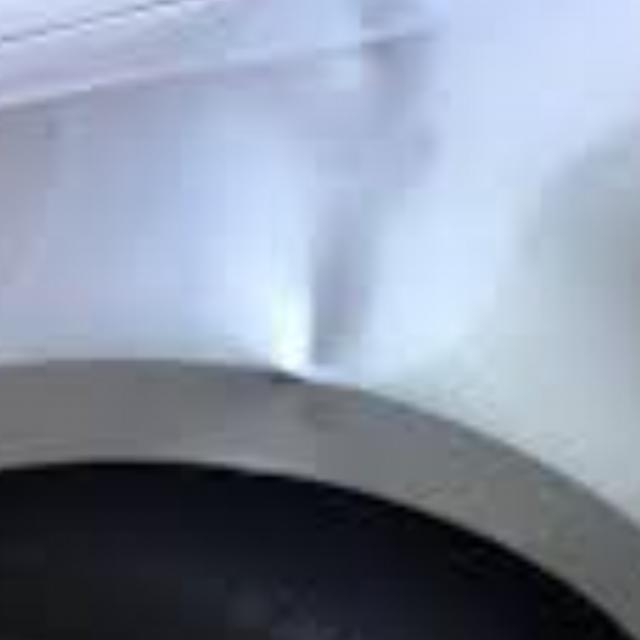dents: (182, 172, 476, 412)
